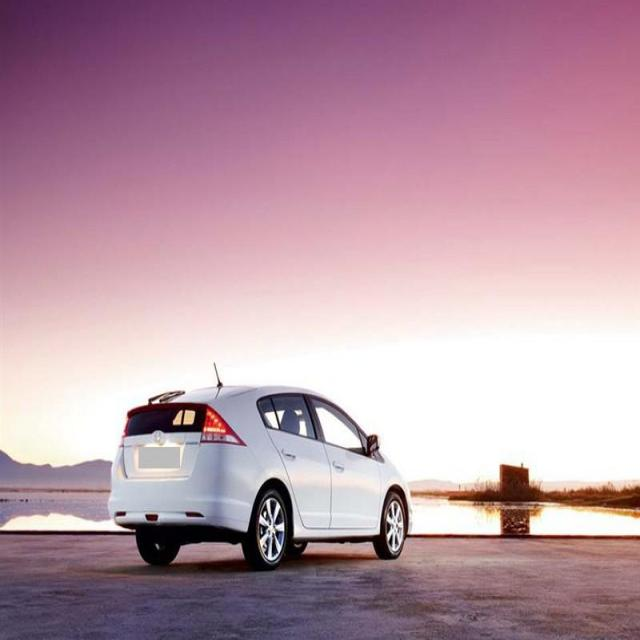back_left_side_light: (122, 410, 130, 437)
back_right_side_light: (199, 403, 249, 447)
door: (258, 397, 330, 524)
front_right_side_door: (307, 392, 382, 532)
front_right_side_mirror: (366, 432, 382, 458)
rear_bumper: (108, 443, 270, 532)
wheel: (240, 486, 290, 569), (371, 492, 408, 559), (134, 530, 181, 566)
